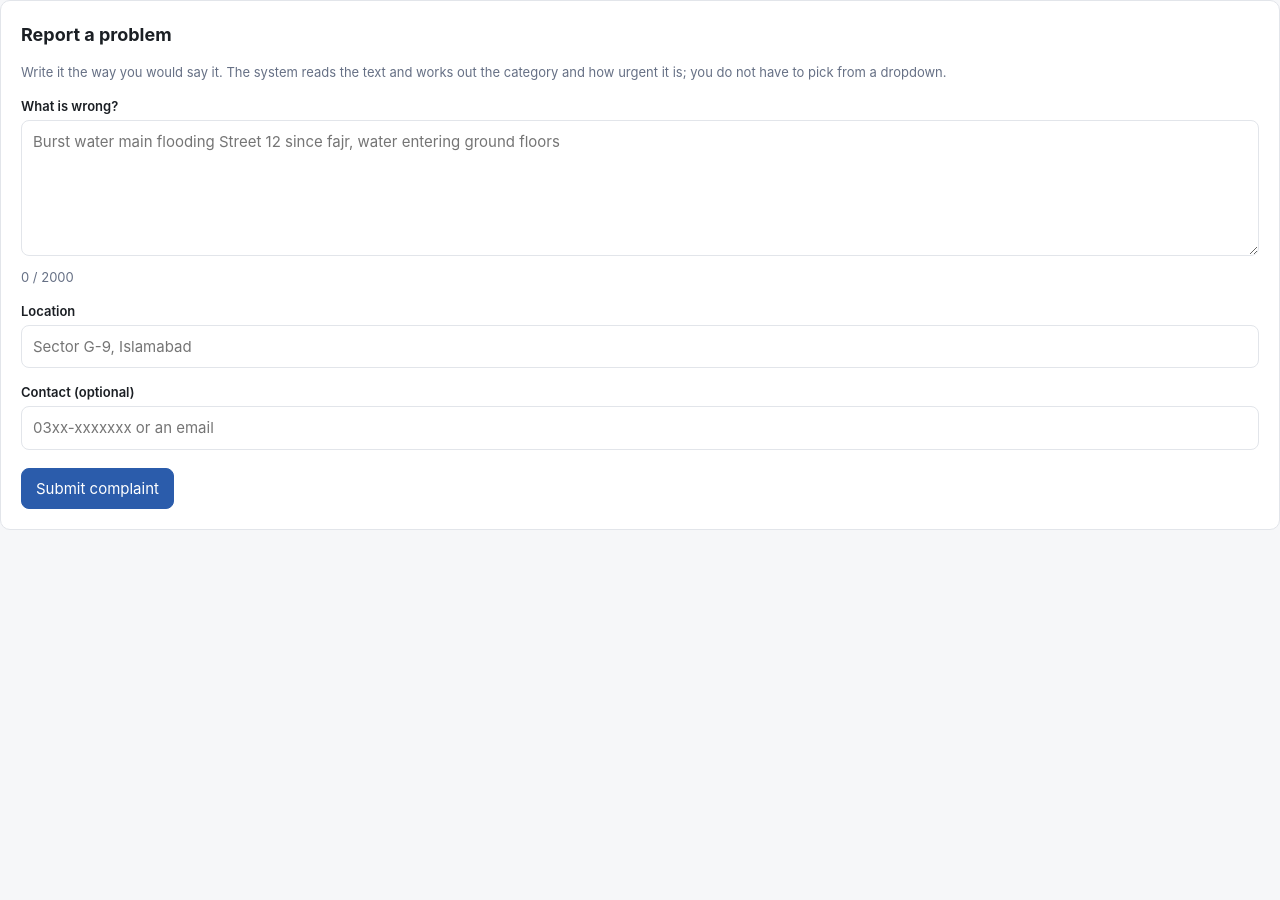
Test: SubmitView › renders the category, priority, summary and provider the server returned
Step 1. Type "Burst water main flooding Street 12 since fajr" into the text box labelled "What is wrong?" → (640, 188), box x1=21 y1=120 x2=1259 y2=256
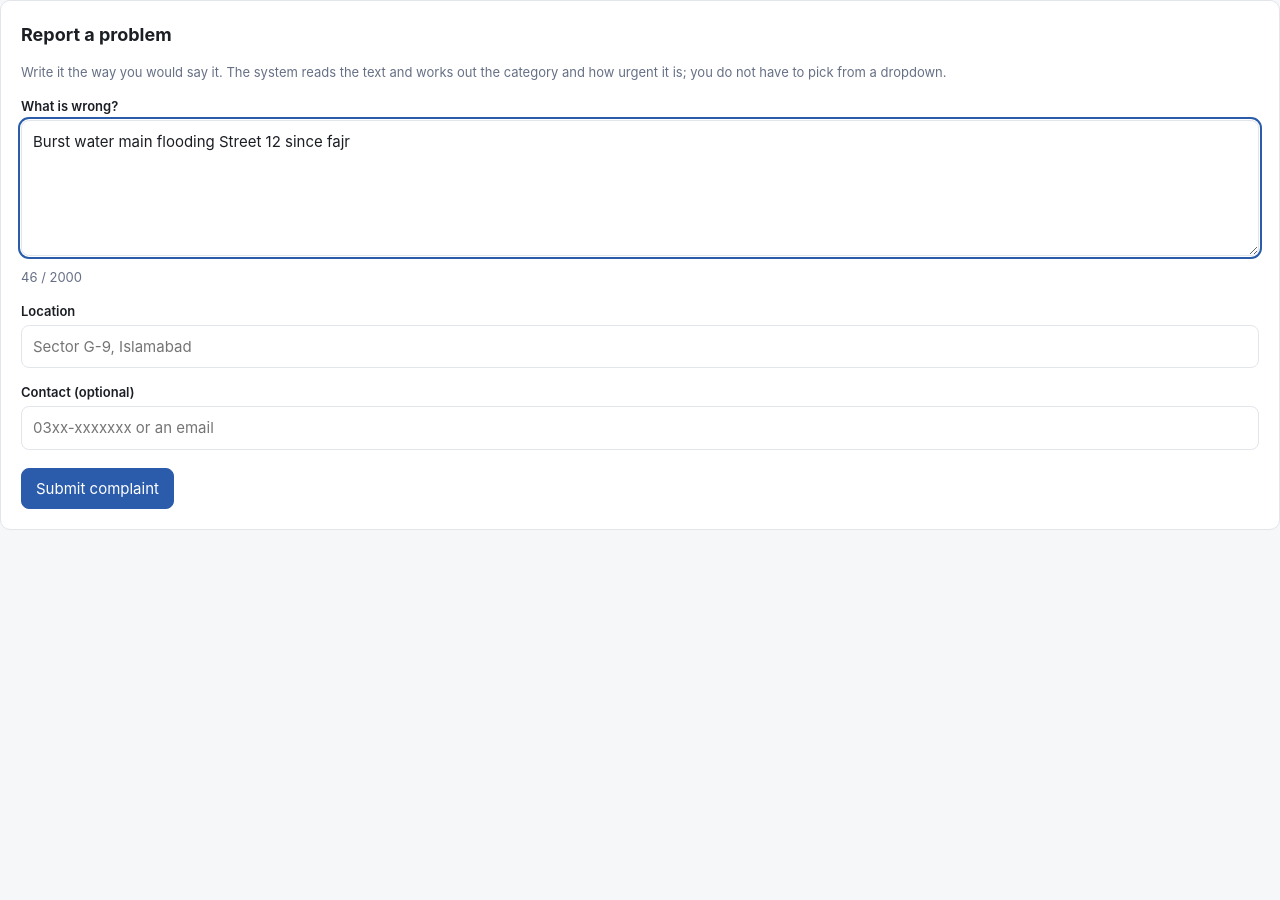
Step 2. Type "Sector G-9" into the field labelled "Location" → (640, 347), box x1=21 y1=325 x2=1259 y2=368
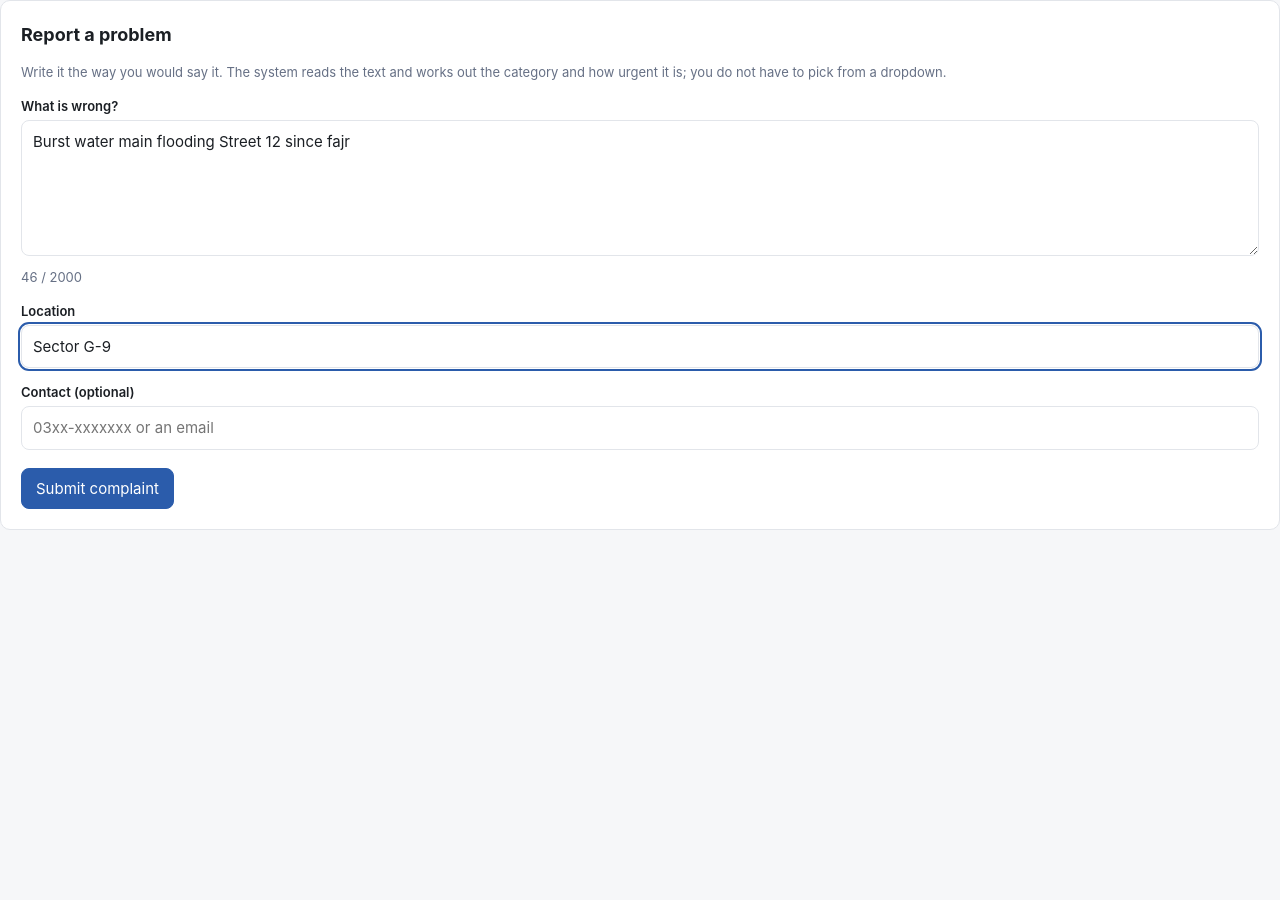
Step 3. Click the button "Submit complaint" → (97, 488), box x1=21 y1=468 x2=174 y2=509
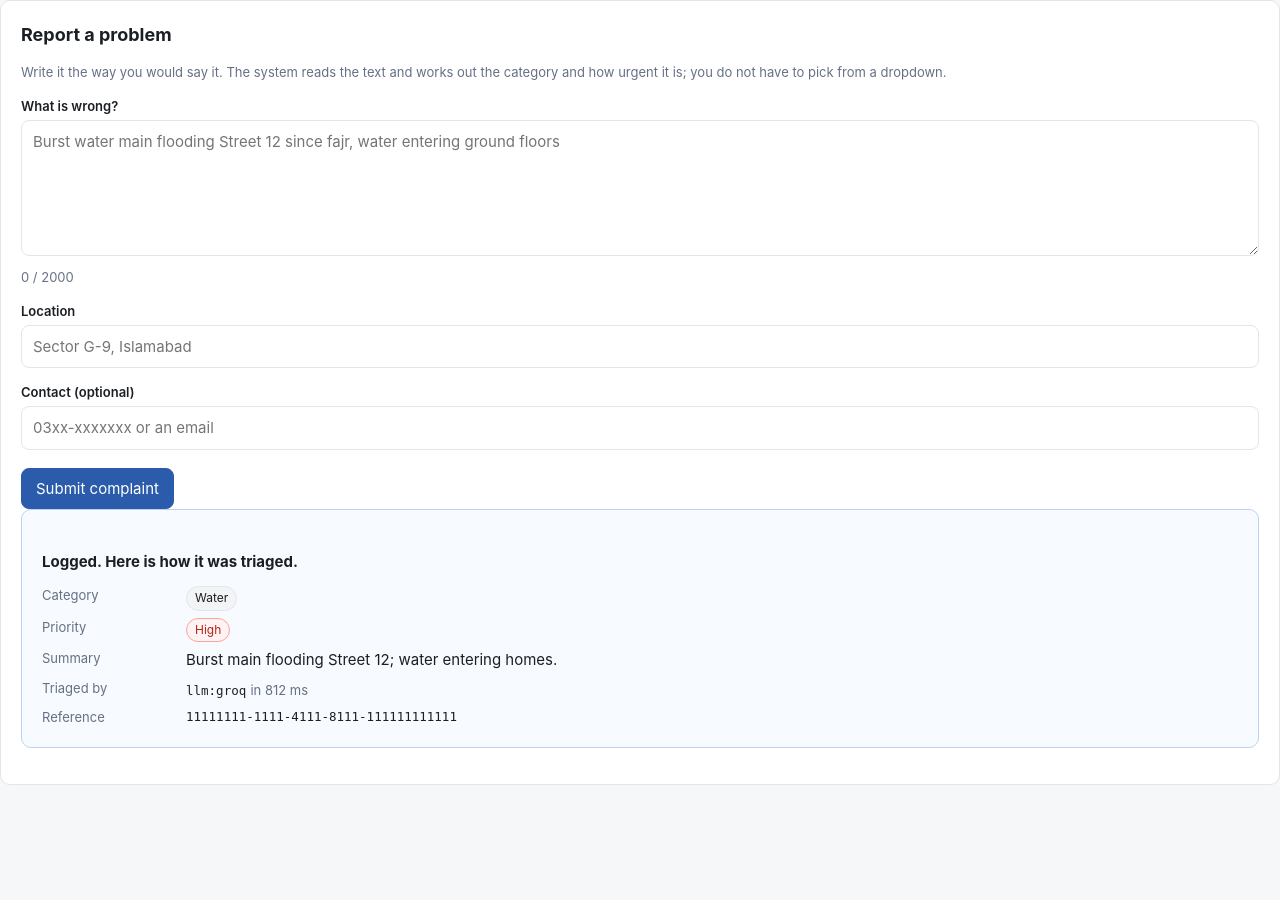
Expected: the element with test id "triage-result" shows "water", x1=195 y1=590 x2=228 y2=605
Expected: the element with test id "triage-result" shows "high", x1=195 y1=622 x2=221 y2=637
Expected: the element with test id "triage-result" shows "Burst main flooding Street 12", x1=186 y1=650 x2=557 y2=669
